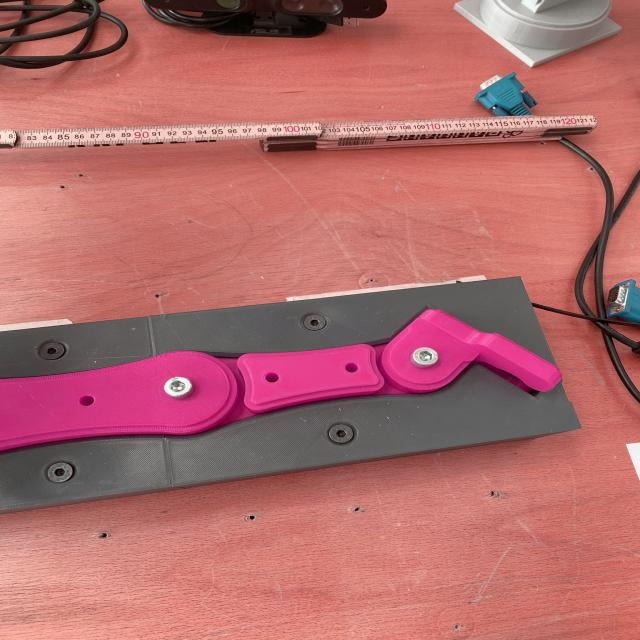HexScrew: (411, 346, 440, 368), (163, 376, 191, 397), (329, 423, 355, 444), (48, 461, 72, 483), (38, 342, 66, 360), (303, 314, 327, 331)
